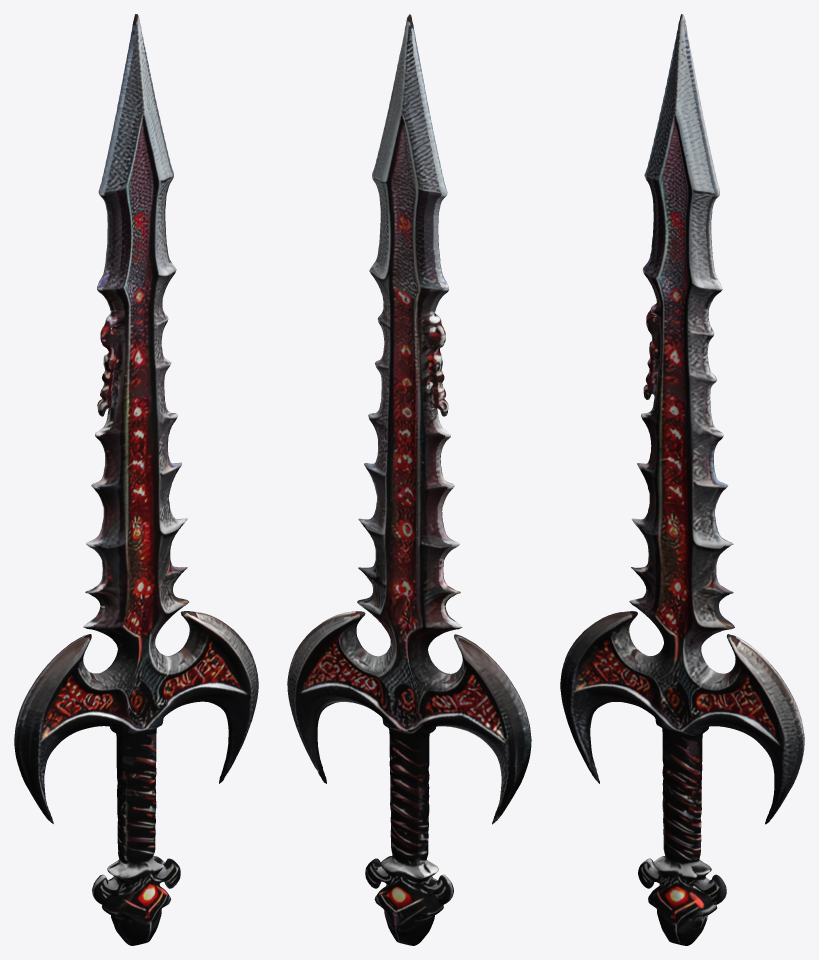
The model's file is Tripo.glb.
3 views of the same model, side by side, from view 1: azimuth 30°, elevation 25°; view 2: azimuth 150°, elevation 25°; view 3: azimuth 330°, elevation 25° (orthographic).
Parts seen in each view (by area): view 1: geometry_0; view 2: geometry_0; view 3: geometry_0.
Part boxes in pixels (x1=…): geometry_0: x1=14, y1=14, x2=258, y2=945; geometry_0: x1=287, y1=14, x2=531, y2=945; geometry_0: x1=560, y1=14, x2=804, y2=945.
Size of the model in its own units: 0.5093 by 1.87 by 0.0759.
Materials: 1 (1 with a texture image).
